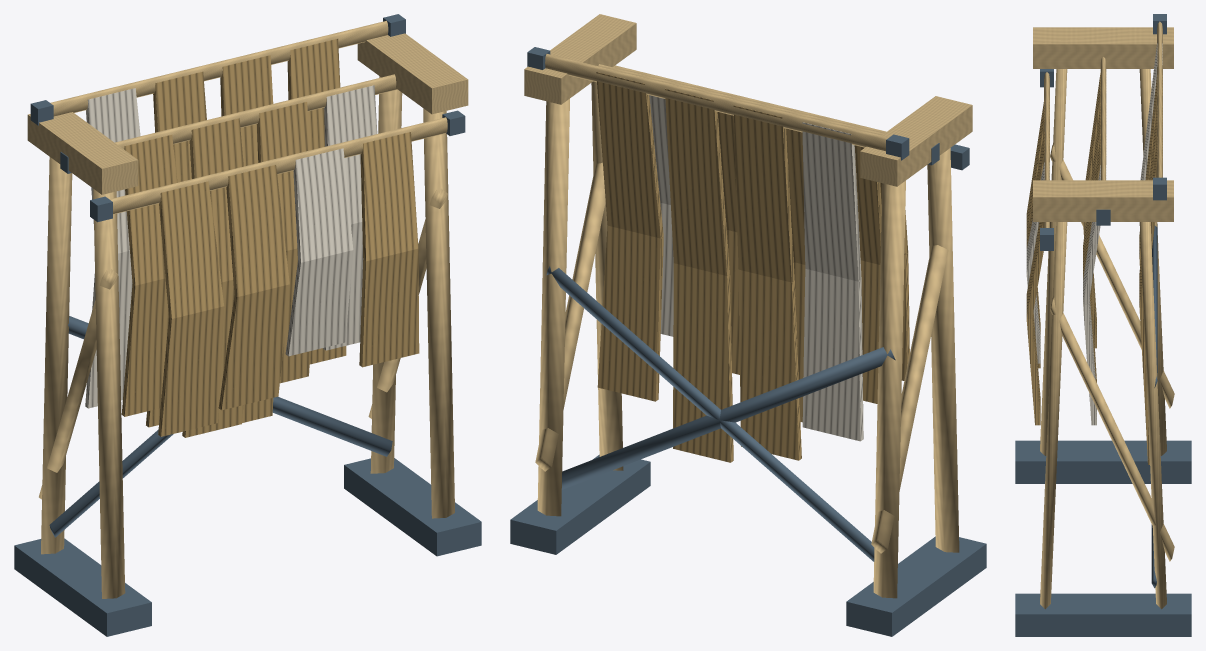
The picture shows the model from 3 angles, left to right: view 1: azimuth 30°, elevation 25°; view 2: azimuth 150°, elevation 25°; view 3: azimuth 270°, elevation 25°; orthographic projection. The views are drawn at different scales.
Parts seen in each view (by area): view 1: Beech trestles, Front ribbon bank, Middle ribbon bank, Rear ribbon bank, Drying combs; view 2: Beech trestles, Rear ribbon bank, Middle ribbon bank, Drying combs, Front ribbon bank; view 3: Beech trestles, Drying combs, Front ribbon bank, Middle ribbon bank, Rear ribbon bank.
Part boxes in pixels (x1=…): Beech trestles: x1=14, y1=33, x2=481, y2=636; Front ribbon bank: x1=158, y1=132, x2=419, y2=436; Middle ribbon bank: x1=121, y1=85, x2=377, y2=437; Rear ribbon bank: x1=85, y1=38, x2=346, y2=427; Drying combs: x1=30, y1=14, x2=465, y2=222; Beech trestles: x1=510, y1=14, x2=986, y2=636; Rear ribbon bank: x1=596, y1=72, x2=863, y2=462; Middle ribbon bank: x1=649, y1=95, x2=881, y2=422; Drying combs: x1=527, y1=47, x2=969, y2=170; Front ribbon bank: x1=880, y1=183, x2=909, y2=380; Beech trestles: x1=1015, y1=27, x2=1191, y2=636; Drying combs: x1=1040, y1=14, x2=1166, y2=250; Front ribbon bank: x1=1026, y1=100, x2=1049, y2=425; Middle ribbon bank: x1=1083, y1=71, x2=1106, y2=425; Rear ribbon bank: x1=1139, y1=43, x2=1162, y2=464.
Bounding box in the file's own units: 2.45 × 2.96 × 1.05.
Materials: 1 (1 with a texture image).
